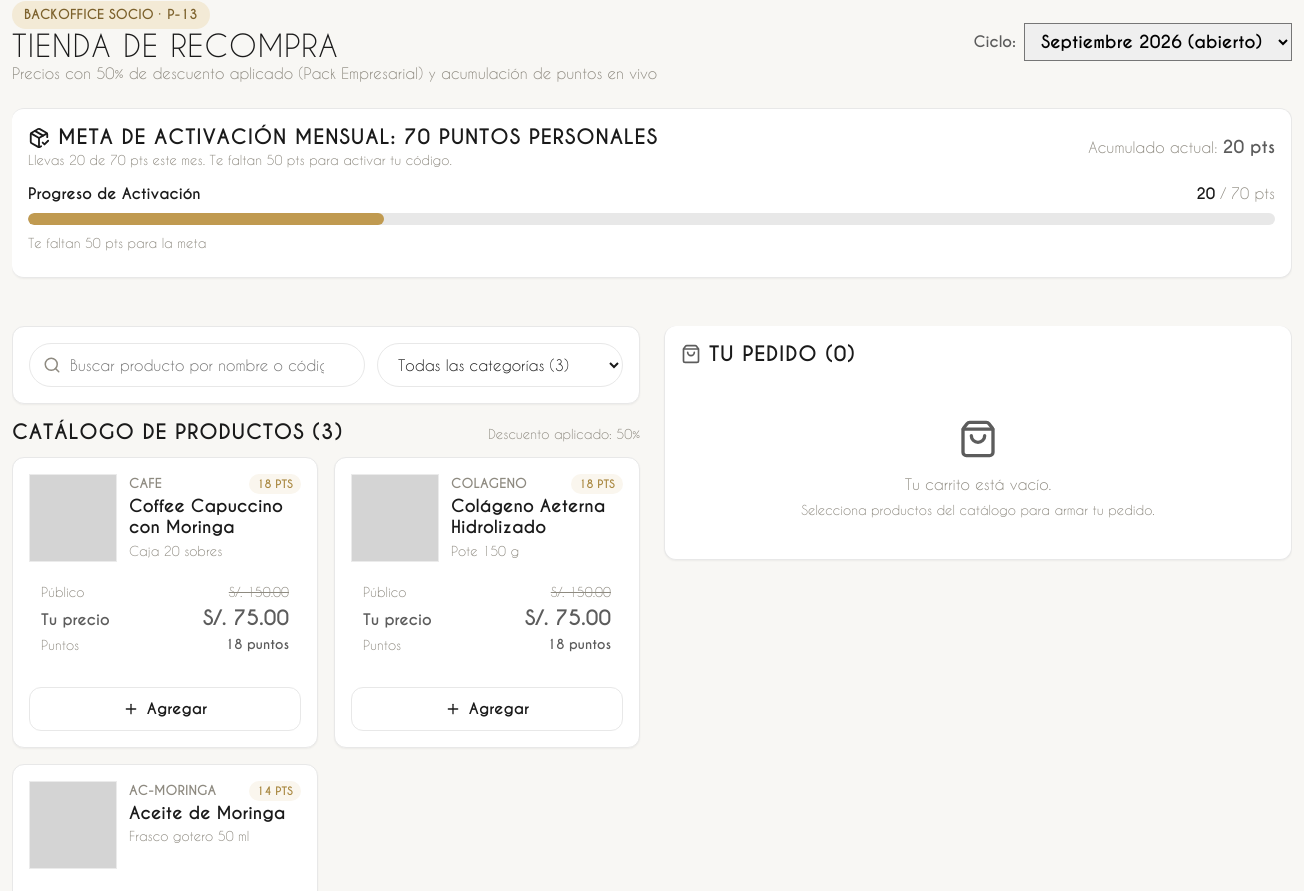
TAREA-58 · P-13 Tienda con el pulgar › 2 · Busca por nombre ignorando tildes y mayúsculas ("moringa" encuentra "Moringa")
Expected: the heading "Coffee Capuccino con Moringa" is shown, [129,496,301,538]
Type "móringá" into the field with test id "input-buscar-tienda" at (197, 364), box [29,342,365,386]
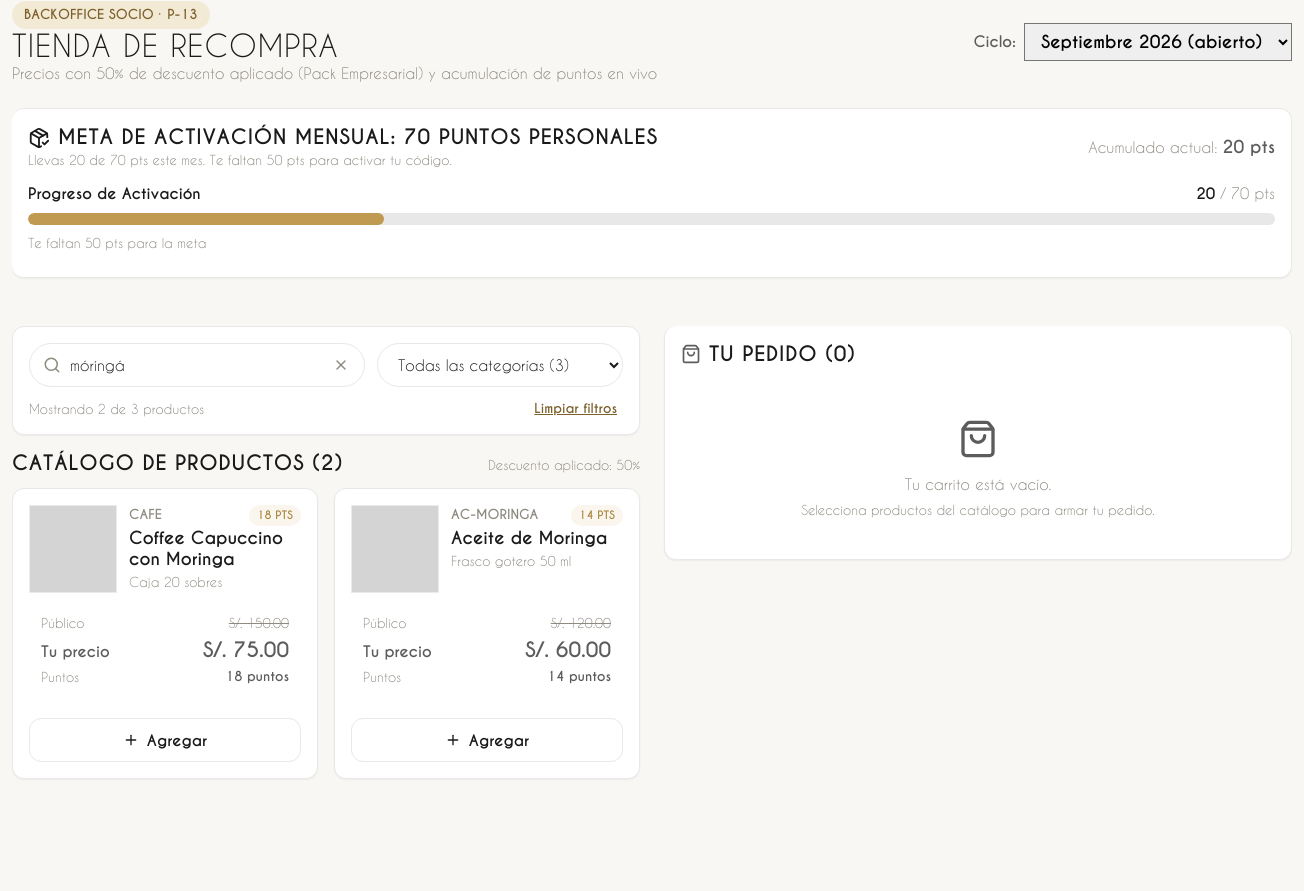
Expected: the heading "Coffee Capuccino con Moringa" is shown, [129,528,301,570]
Now the heading "Colágeno Aeterna Hidrolizado" is gone
